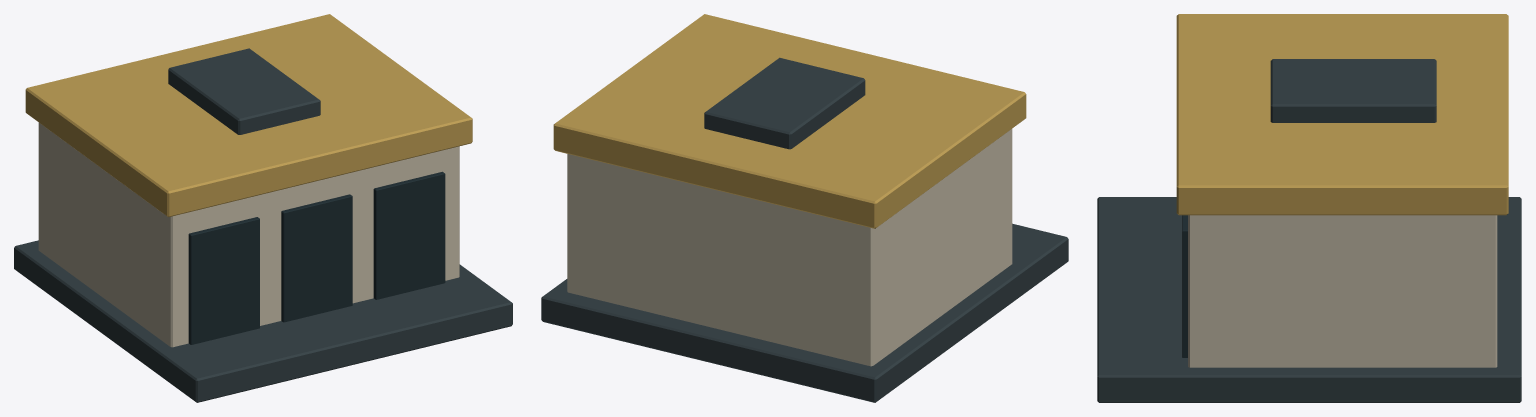
The model's file is depot-lod0.a66b0d31500f.glb.
The picture shows the model from 3 angles, left to right: view 1: azimuth 30°, elevation 25°; view 2: azimuth 150°, elevation 25°; view 3: azimuth 270°, elevation 25°; orthographic projection. The views are drawn at different scales.
Parts seen in each view (by area): view 1: body; view 2: body; view 3: body.
Part boxes in pixels (x1,y1,x2,y2): body: (14, 14, 512, 402); body: (541, 14, 1068, 402); body: (1097, 14, 1521, 402).
Bounding box in the file's own units: 3.84 × 2.32 × 3.84.
